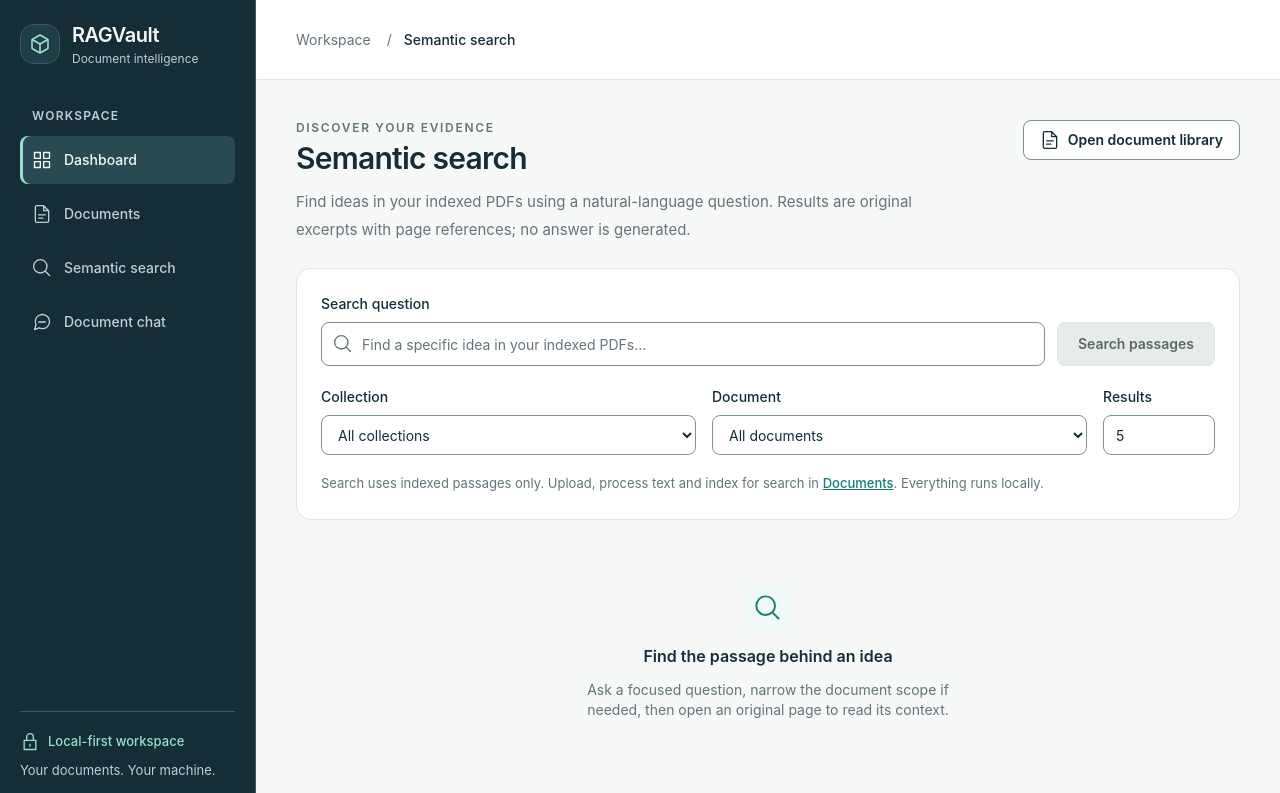
semantic search › submits server-side filters and renders escaped excerpts, names and page scores
Step 1. Type "revenue growth" into the search field labelled "Search question" → (683, 344), box top-left (321, 322), bottom-right (1045, 366)
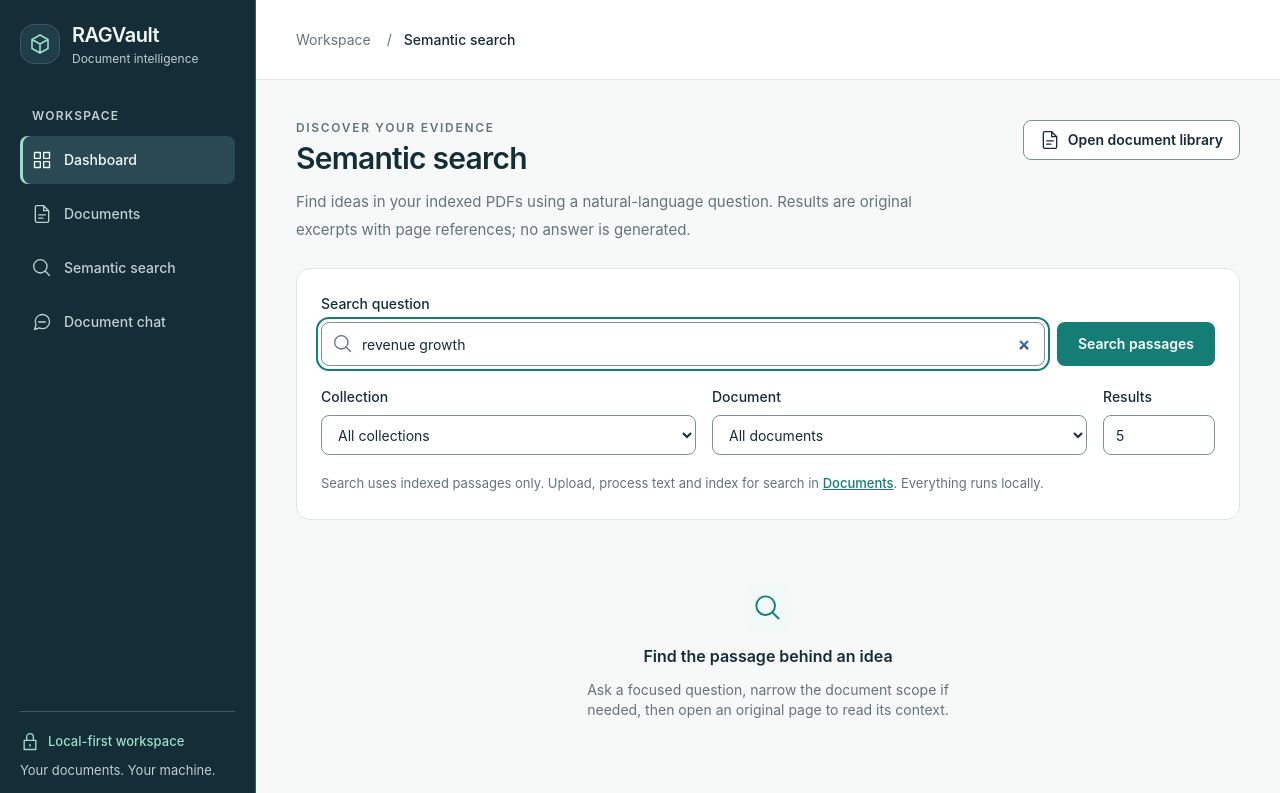
Step 2. Select "Finance" in the dropdown named "Collection filter" → (508, 435), box top-left (321, 415), bottom-right (696, 455)
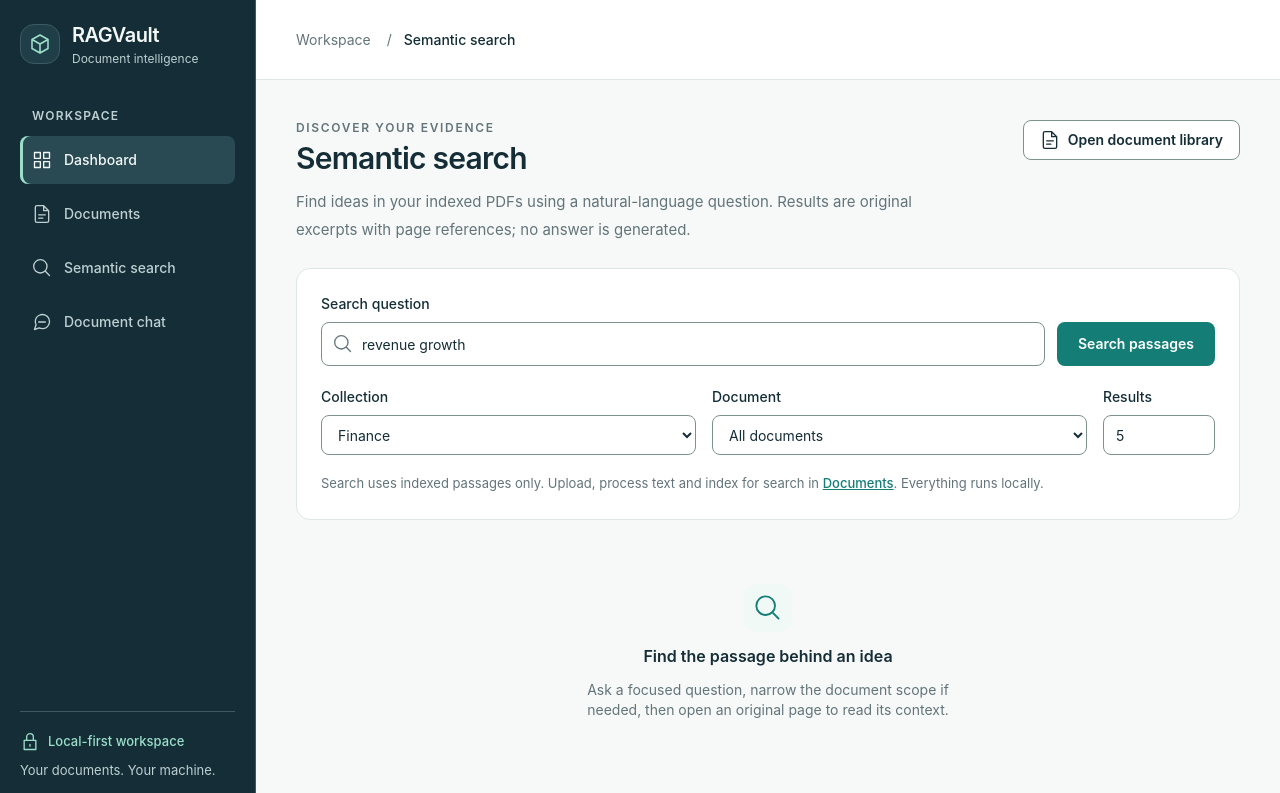
Step 3. Select "finance.pdf" in the dropdown named "Document filter" → (900, 435), box top-left (712, 415), bottom-right (1087, 455)
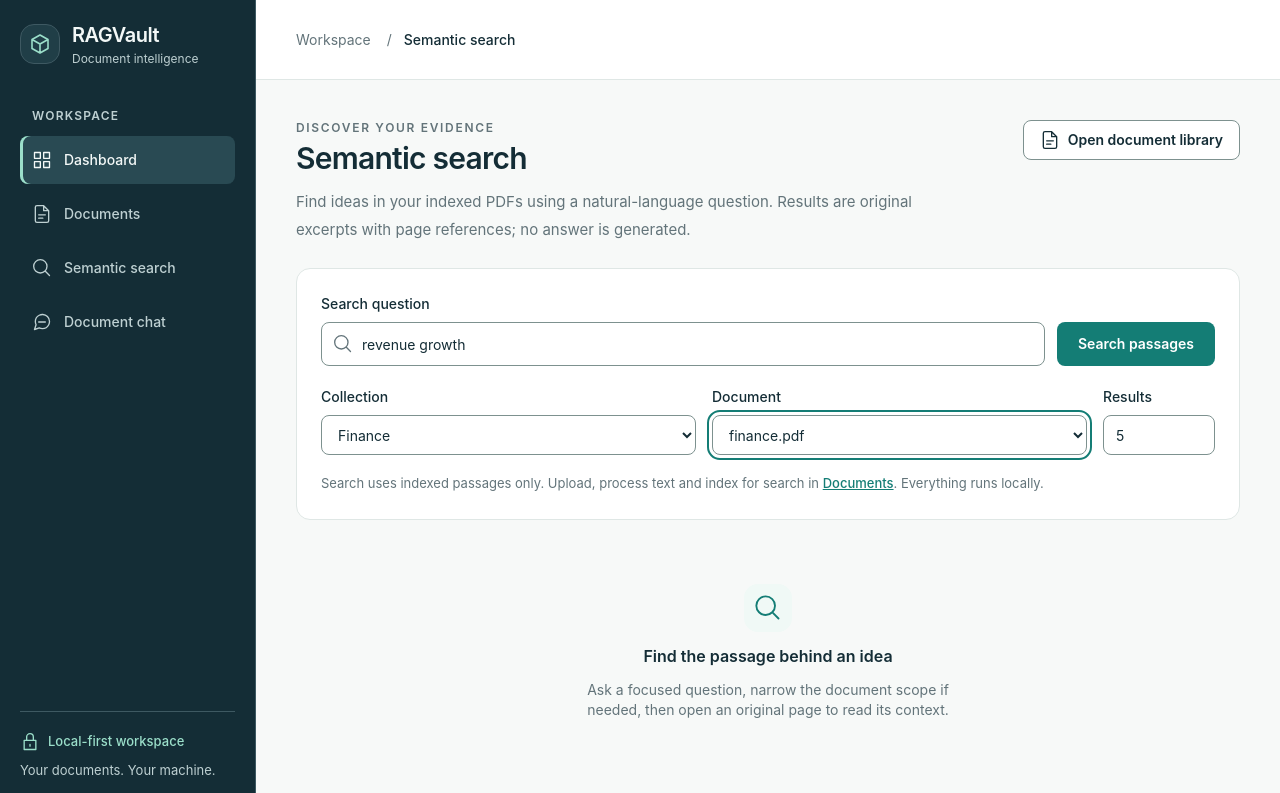
Step 4. Click the button "Search passages" → (1136, 344), box top-left (1057, 322), bottom-right (1215, 366)
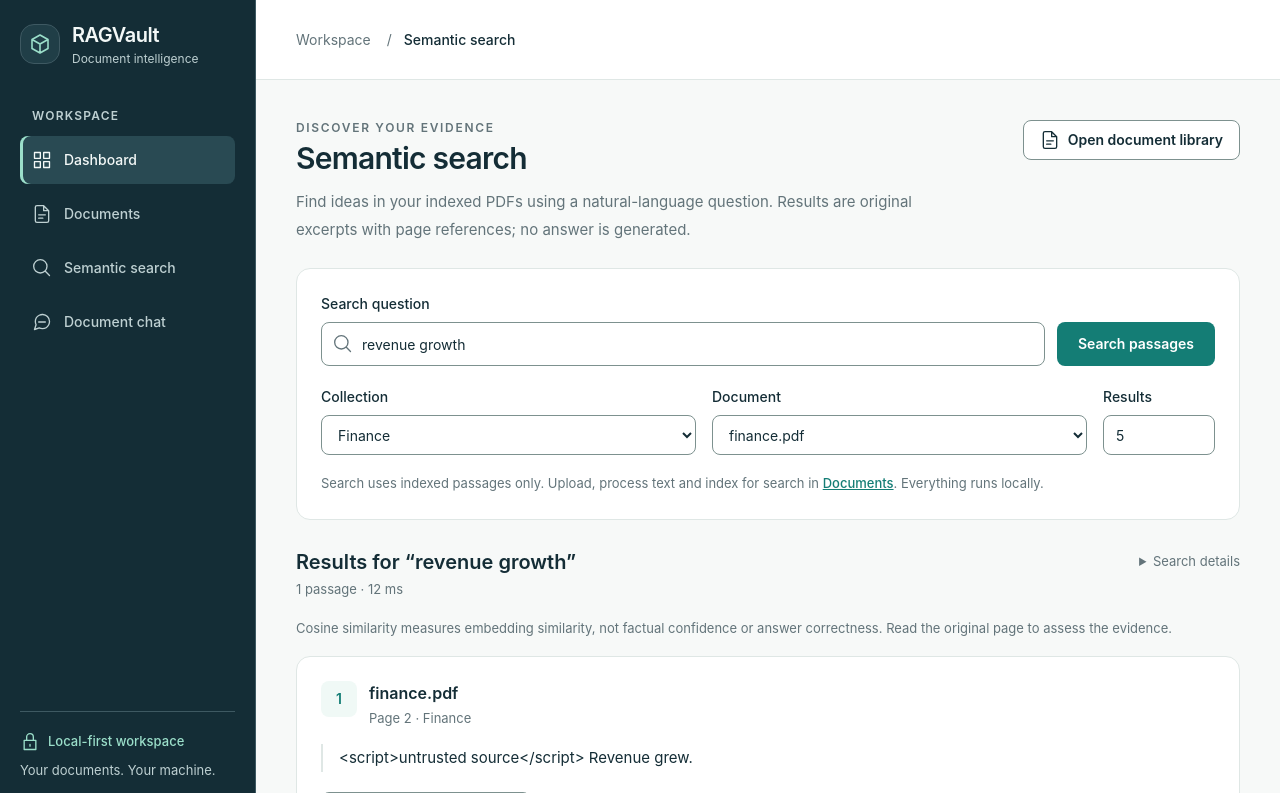
Now the text "Page 2 · Finance" is shown, box top-left (369, 708), bottom-right (471, 728)
Now the text "<script>untrusted source</script> Revenue grew." is shown, box top-left (321, 744), bottom-right (1215, 772)
